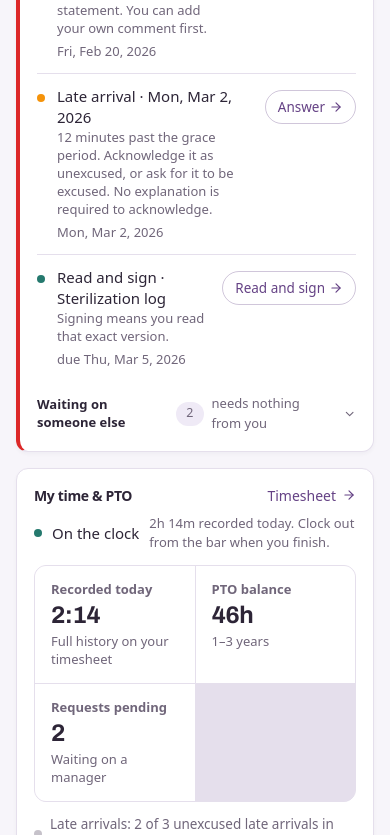
needs you — my own items › a late arrival waits on my answer, the attendance report on my signature, and my requests on a manager
(page scrolled)
Check: the text "No explanation is required to acknowledge" is shown, box [57,128,234,218]
Click the button "Waiting on someone else 2 needs nothing from you" at (196, 414), box [37,394,356,434]
(page scrolled)
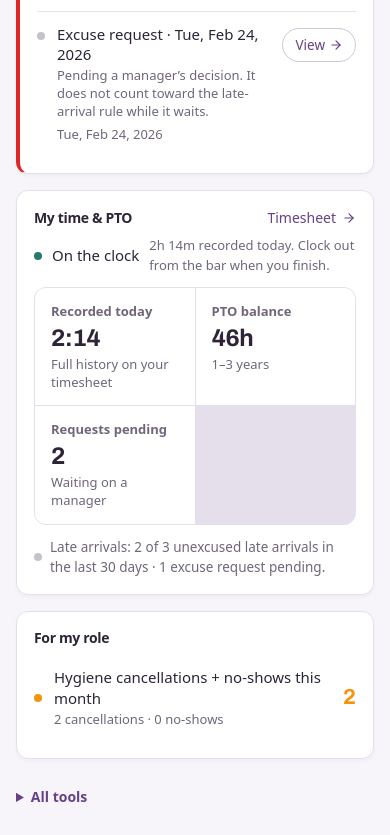
Check: the text "Requests pending" is shown, box [51,420,178,440]
Check: the text "Excuse request · Tue, Feb 24, 2026" is shown, box [57,24,270,65]
Check: the text "Pending a manager’s decision. It does not count" is shown, box [57,66,256,120]
